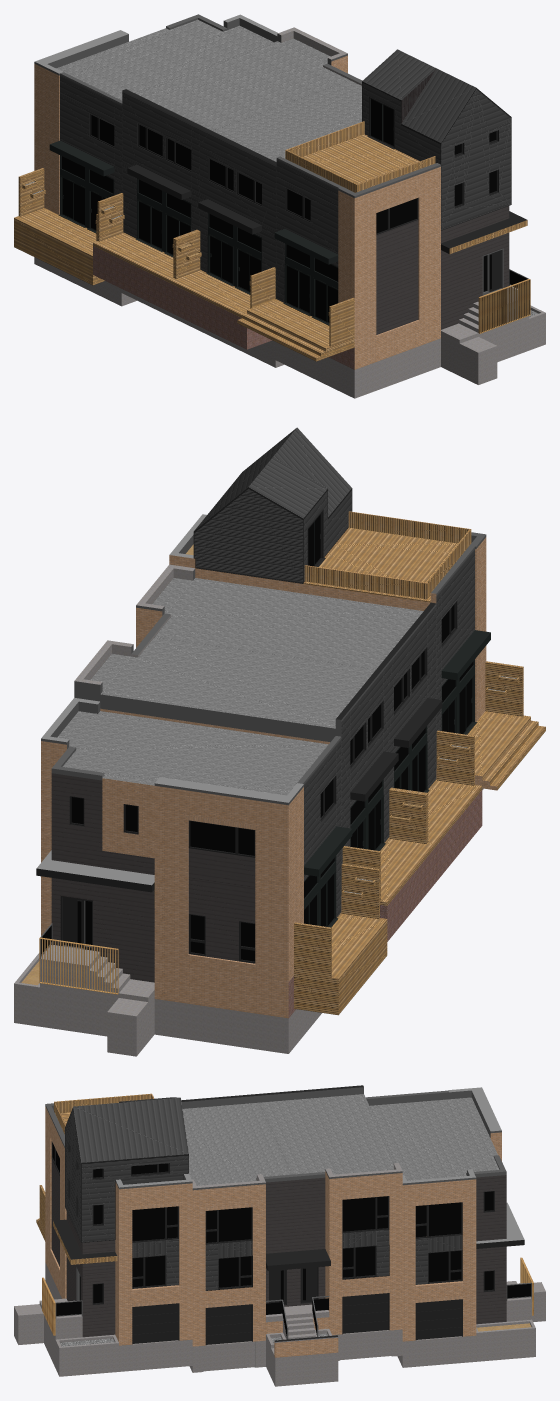
The model's file is Houses6.FBX.
3 renders of one model, top to bottom at view 1: azimuth 30°, elevation 25°; view 2: azimuth 150°, elevation 25°; view 3: azimuth 270°, elevation 25°, orthographic. The views are drawn at different scales.
Visible parts, largest first — view 1: Mesh08, Frame_3_2, porte_en01, Group868; view 2: Mesh08, porte_en01, Frame_3_2; view 3: Mesh08, porte_en01, Group361, Group868, Mesh11.
Boxes of the visible parts, <box> form: Mesh08: <box>14,14,545,398</box>; Frame_3_2: <box>58,97,394,325</box>; porte_en01: <box>89,113,503,295</box>; Group868: <box>441,211,527,254</box>; Mesh08: <box>14,427,545,1056</box>; porte_en01: <box>60,601,457,963</box>; Frame_3_2: <box>304,509,476,927</box>; Mesh08: <box>14,1085,545,1386</box>; porte_en01: <box>68,1142,494,1345</box>; Group361: <box>55,1282,531,1339</box>; Group868: <box>53,1219,117,1264</box>; Mesh11: <box>428,1235,462,1252</box>.
Bounding box in the file's own units: 690 × 599 × 1104.
27 materials, 21 textured.
